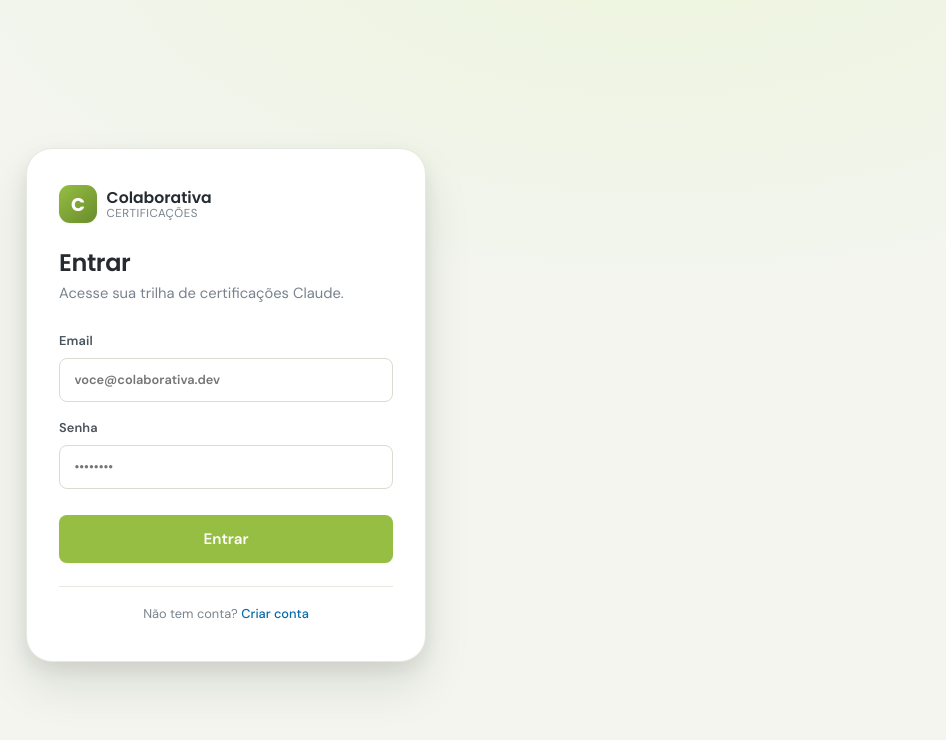
Test case: LoginPage › mostra erro quando o login falha
Type "a@a.com" into the field labelled "Email" at (226, 380), box [59, 358, 393, 402]
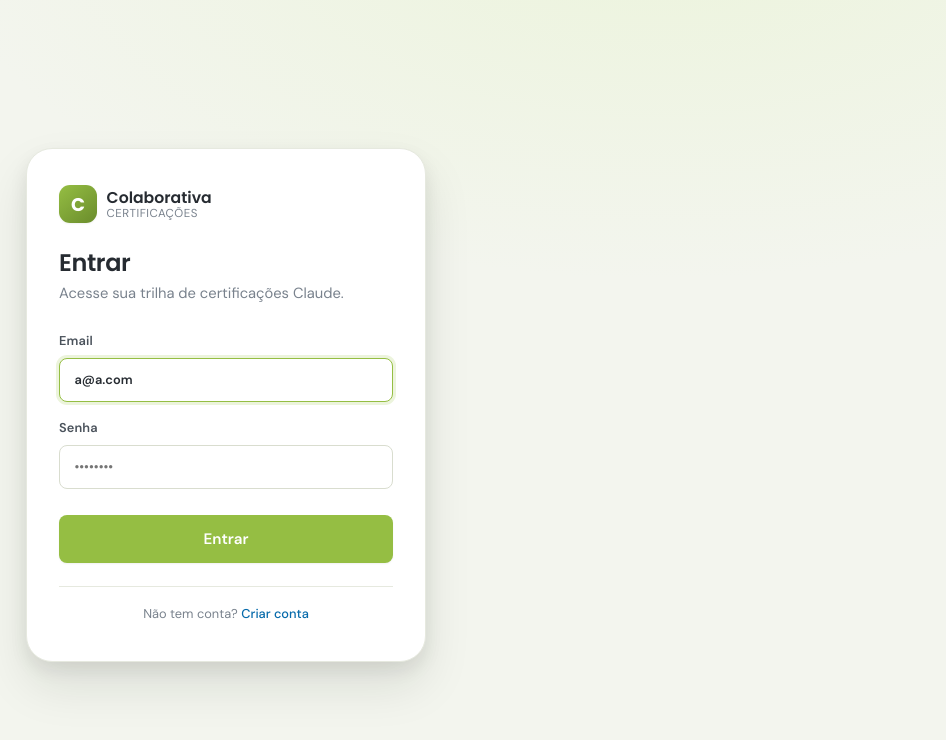
Type "errada123" into the password field labelled "Senha" at (226, 467), box [59, 445, 393, 489]
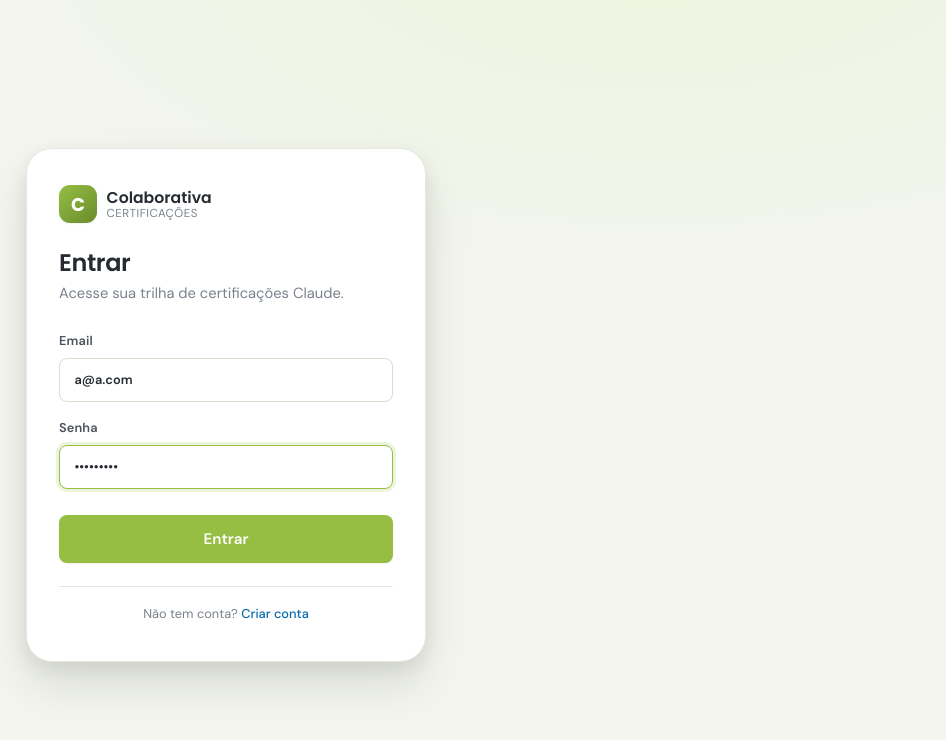
Click the button "Entrar" at (226, 539), box [59, 515, 393, 563]
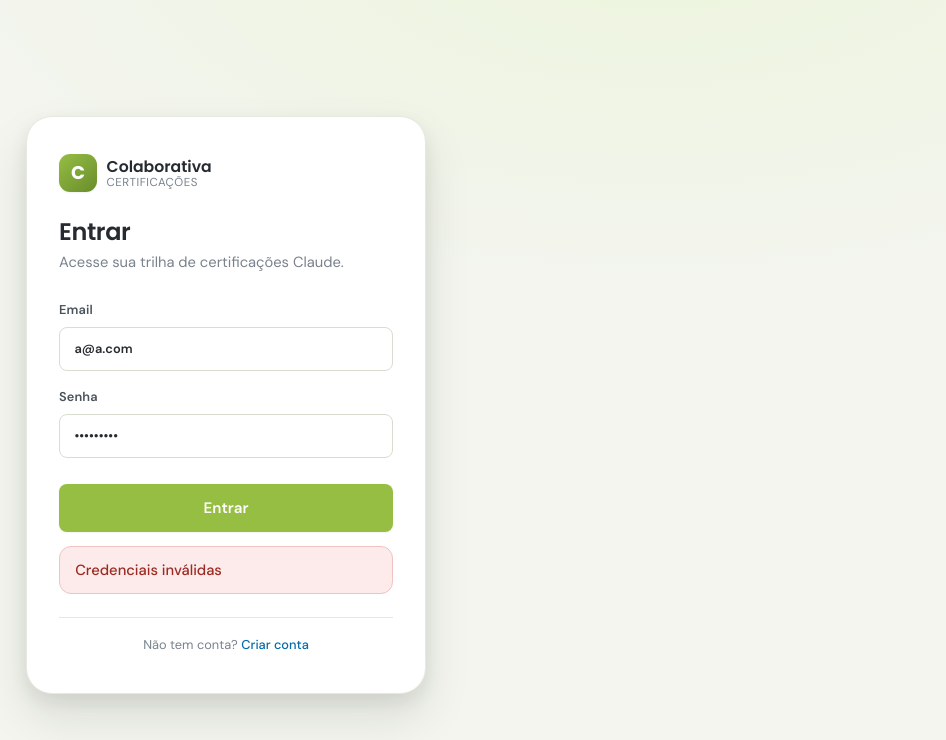
Result: the message reads "Credenciais inválidas" at [75, 560, 222, 580]
